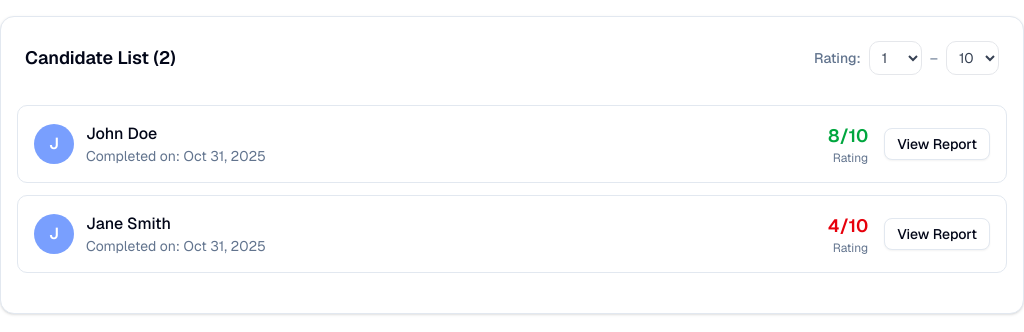
it: CandidateList Component › filters candidates by max rating
Select "5" in the 2nd dropdown at coordinates (972, 58), box [946, 41, 999, 75]
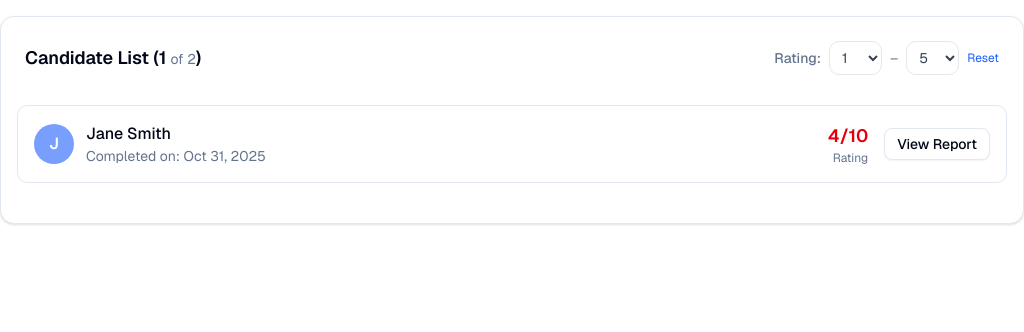
Expected: the heading "Jane Smith" is shown, [86, 123, 171, 144]
Expected: the heading "John Doe" is gone
